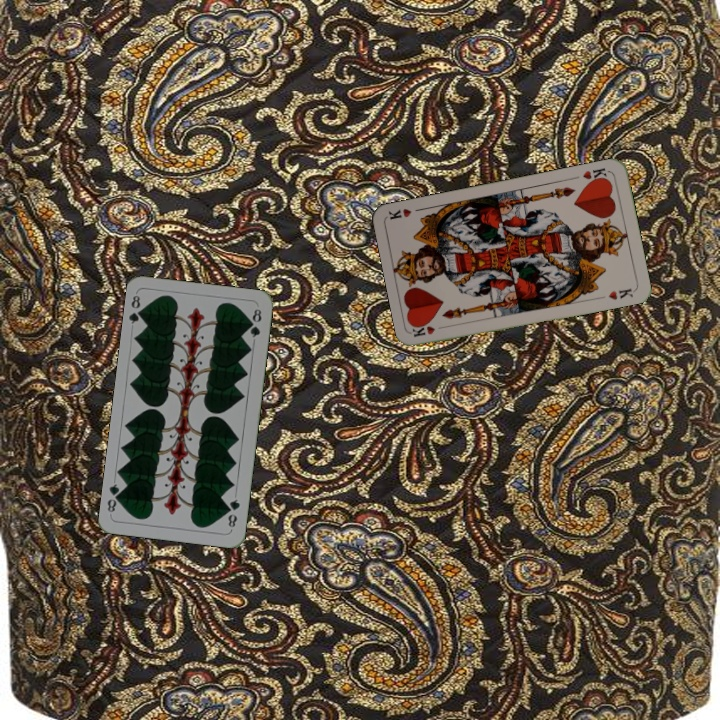G8: (125, 291, 147, 326), (224, 495, 243, 530)
HK: (409, 321, 450, 340), (579, 164, 610, 186)
